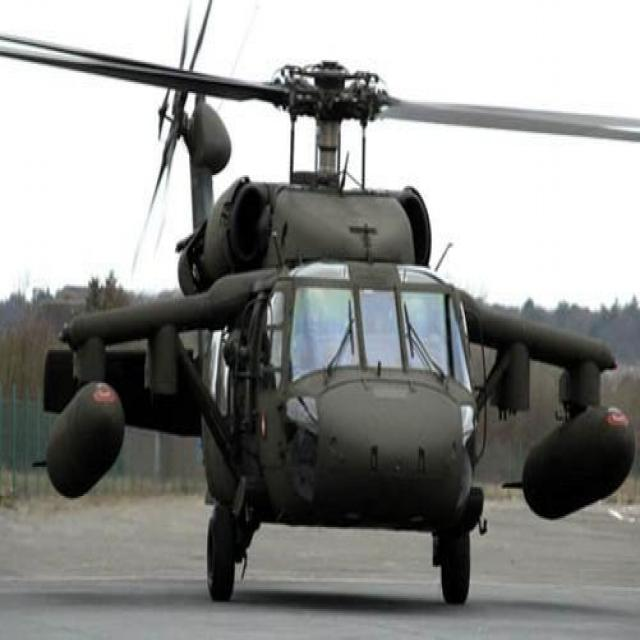MIL_HELO: (17, 17, 640, 596)
